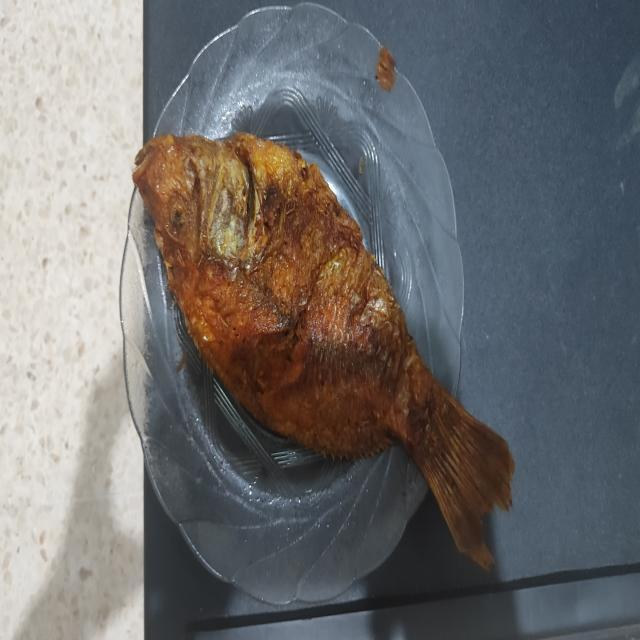ikan_mujair: (133, 132, 514, 569)
